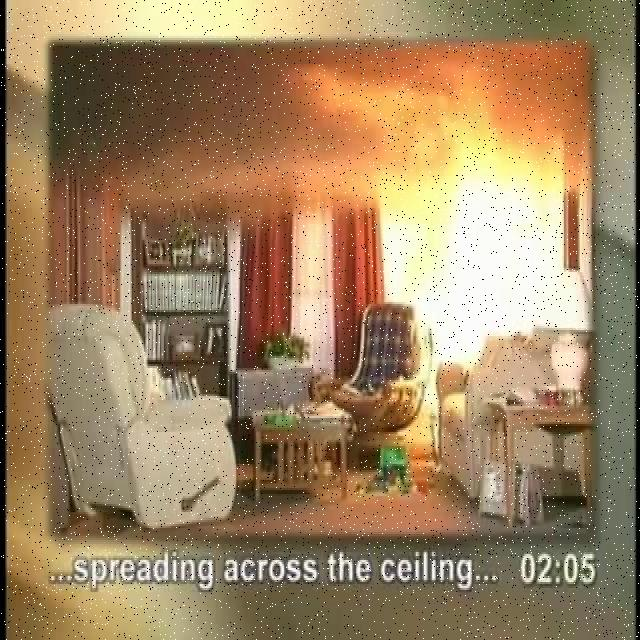fire: (385, 102, 595, 360)
